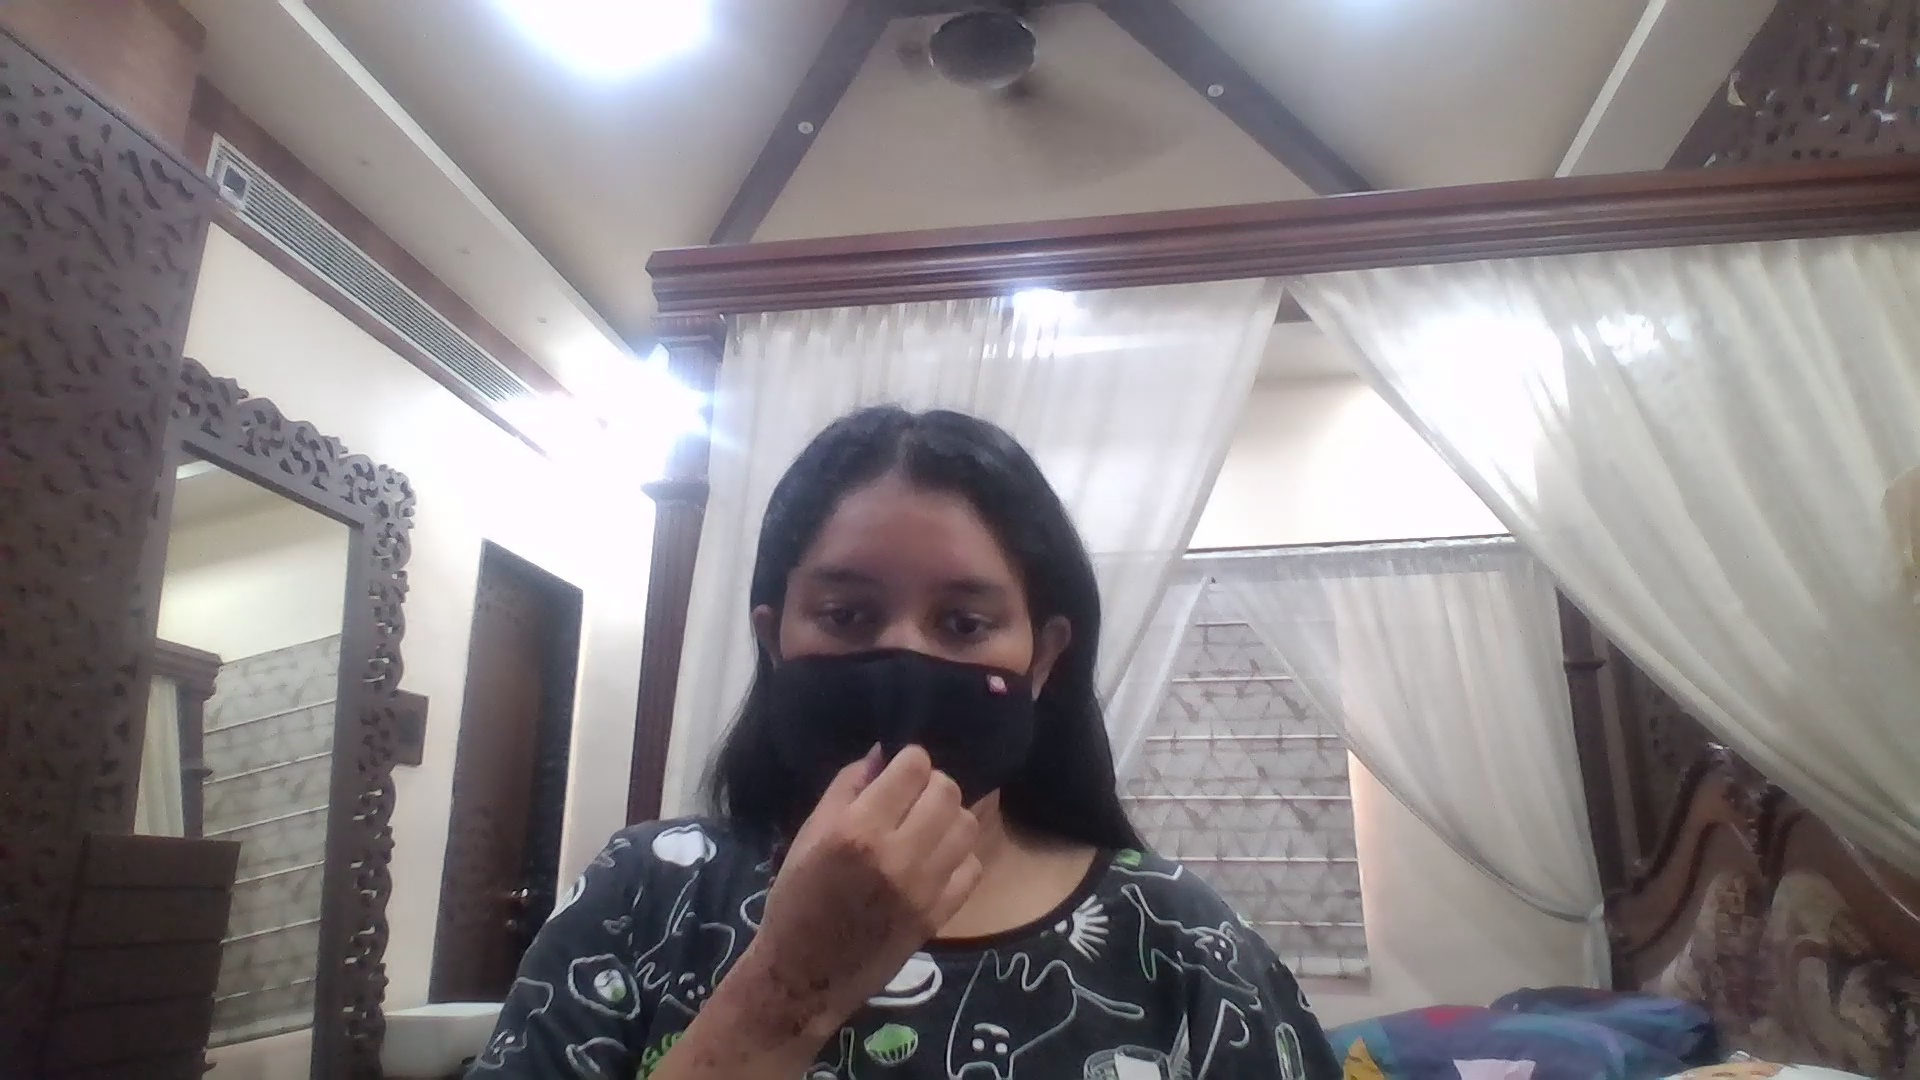Mask: (757, 644, 1032, 831)
